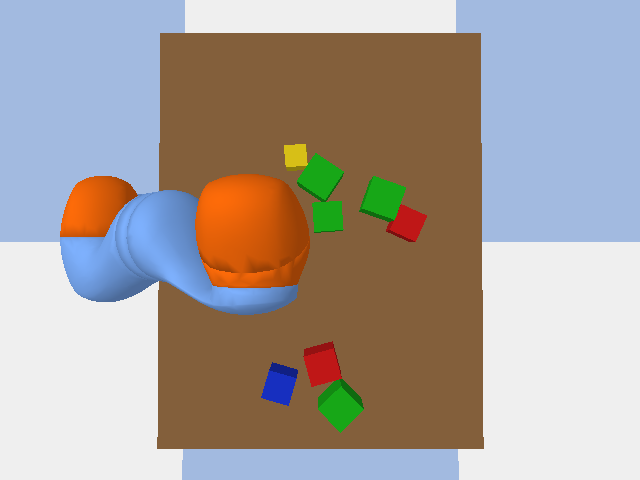blue_obj: (261, 362, 297, 405)
green_obj: (318, 379, 363, 432), (297, 153, 343, 201), (359, 176, 405, 221), (312, 201, 343, 232)
red_obj: (303, 341, 341, 386), (386, 204, 426, 241)
yellow_obj: (284, 144, 307, 170)
